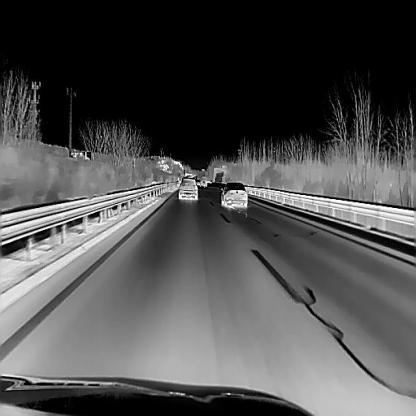car: (220, 181, 248, 208), (178, 175, 198, 200), (199, 175, 207, 187)
